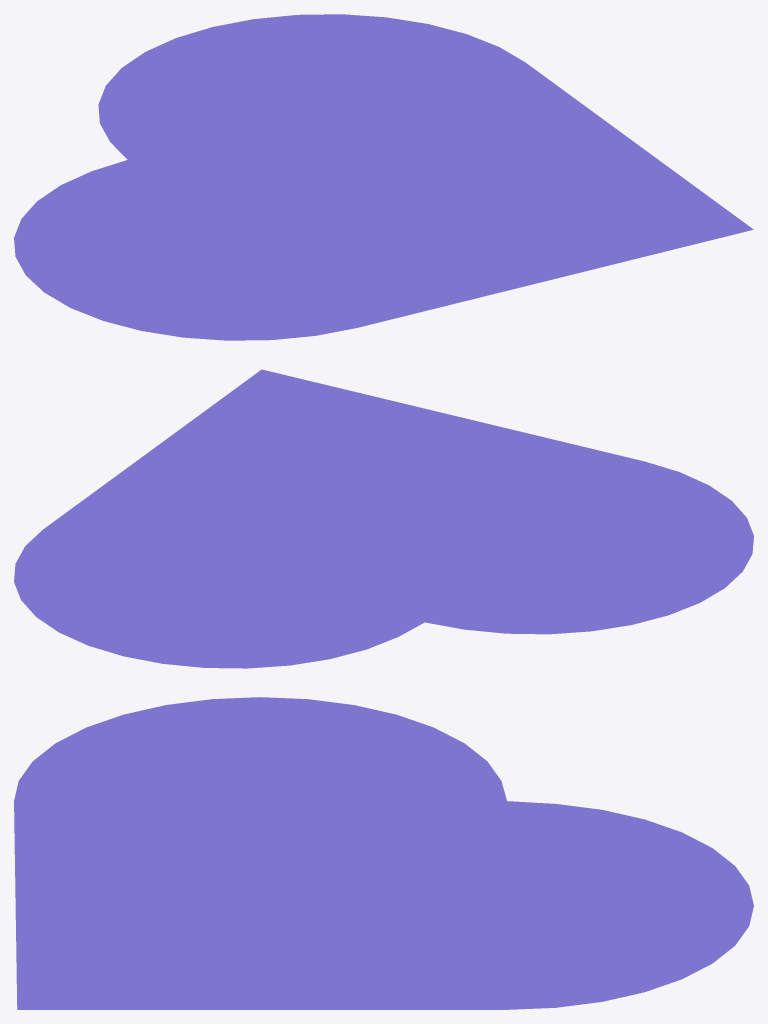
The model's file is heart.glb.
3 renders of one model, top to bottom at view 1: azimuth 30°, elevation 25°; view 2: azimuth 150°, elevation 25°; view 3: azimuth 270°, elevation 25°, orthographic. The views are drawn at different scales.
Visible parts, largest first — view 1: Circle; view 2: Circle; view 3: Circle.
Boxes of the visible parts, <box> form: Circle: <box>14,14,753,340</box>; Circle: <box>14,369,753,668</box>; Circle: <box>14,697,753,1009</box>.
Size of the model in its own units: 3.01 by 0 by 3.01.
